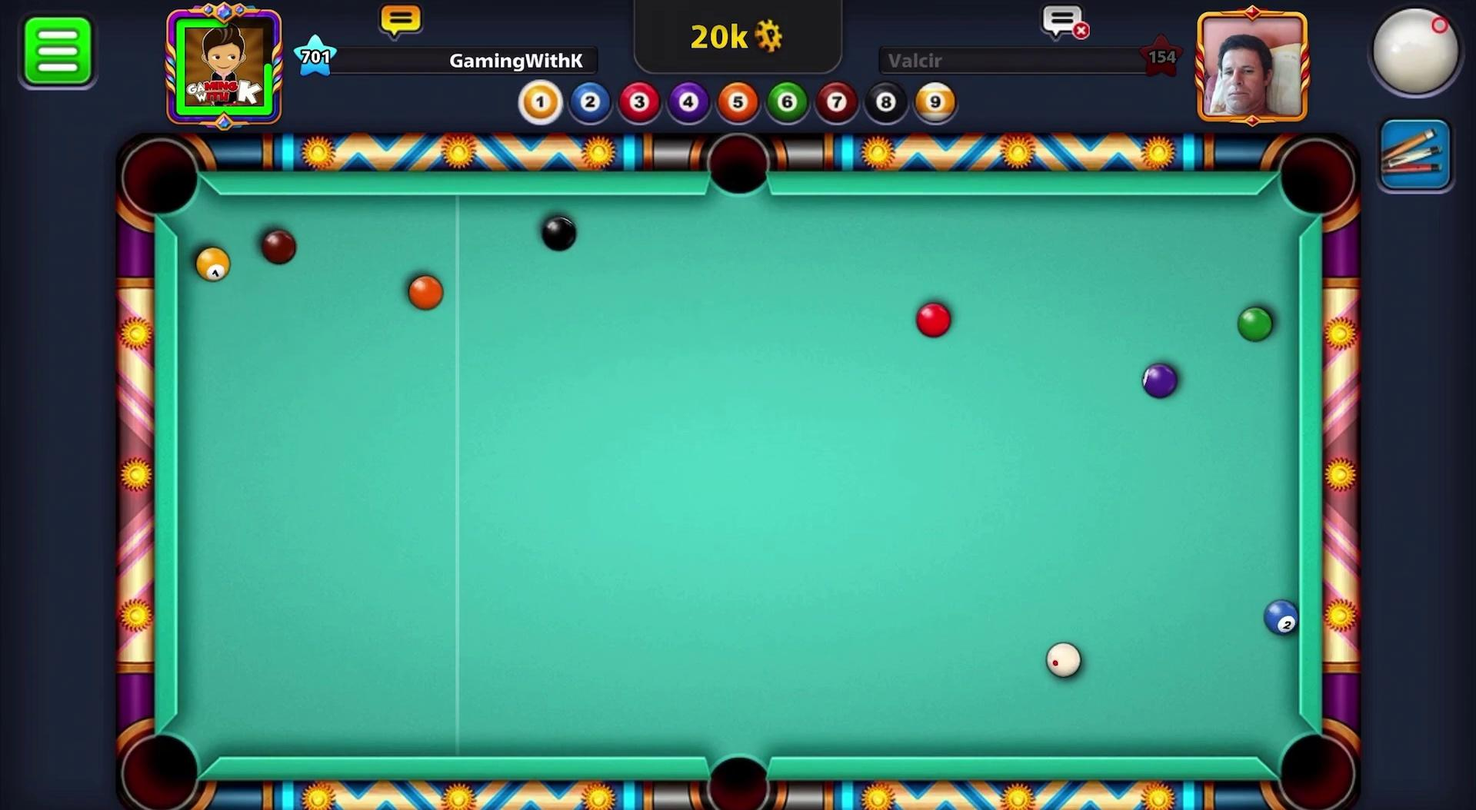Ball: (401, 267, 449, 318), (532, 211, 581, 256), (911, 297, 957, 344), (257, 225, 300, 271), (1140, 360, 1182, 405), (191, 242, 232, 287), (1238, 301, 1276, 345), (1263, 593, 1298, 637)
Hole: (113, 126, 217, 236), (1268, 130, 1365, 232), (1265, 713, 1363, 809), (110, 719, 212, 809), (695, 124, 785, 209), (685, 738, 786, 809)
Play_Area: (175, 194, 1306, 763)
Spin: (1342, 0, 1474, 115)
White: (1040, 638, 1089, 681)
